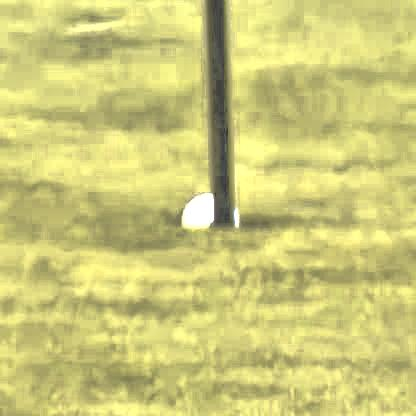golfball: (176, 199, 238, 236)
